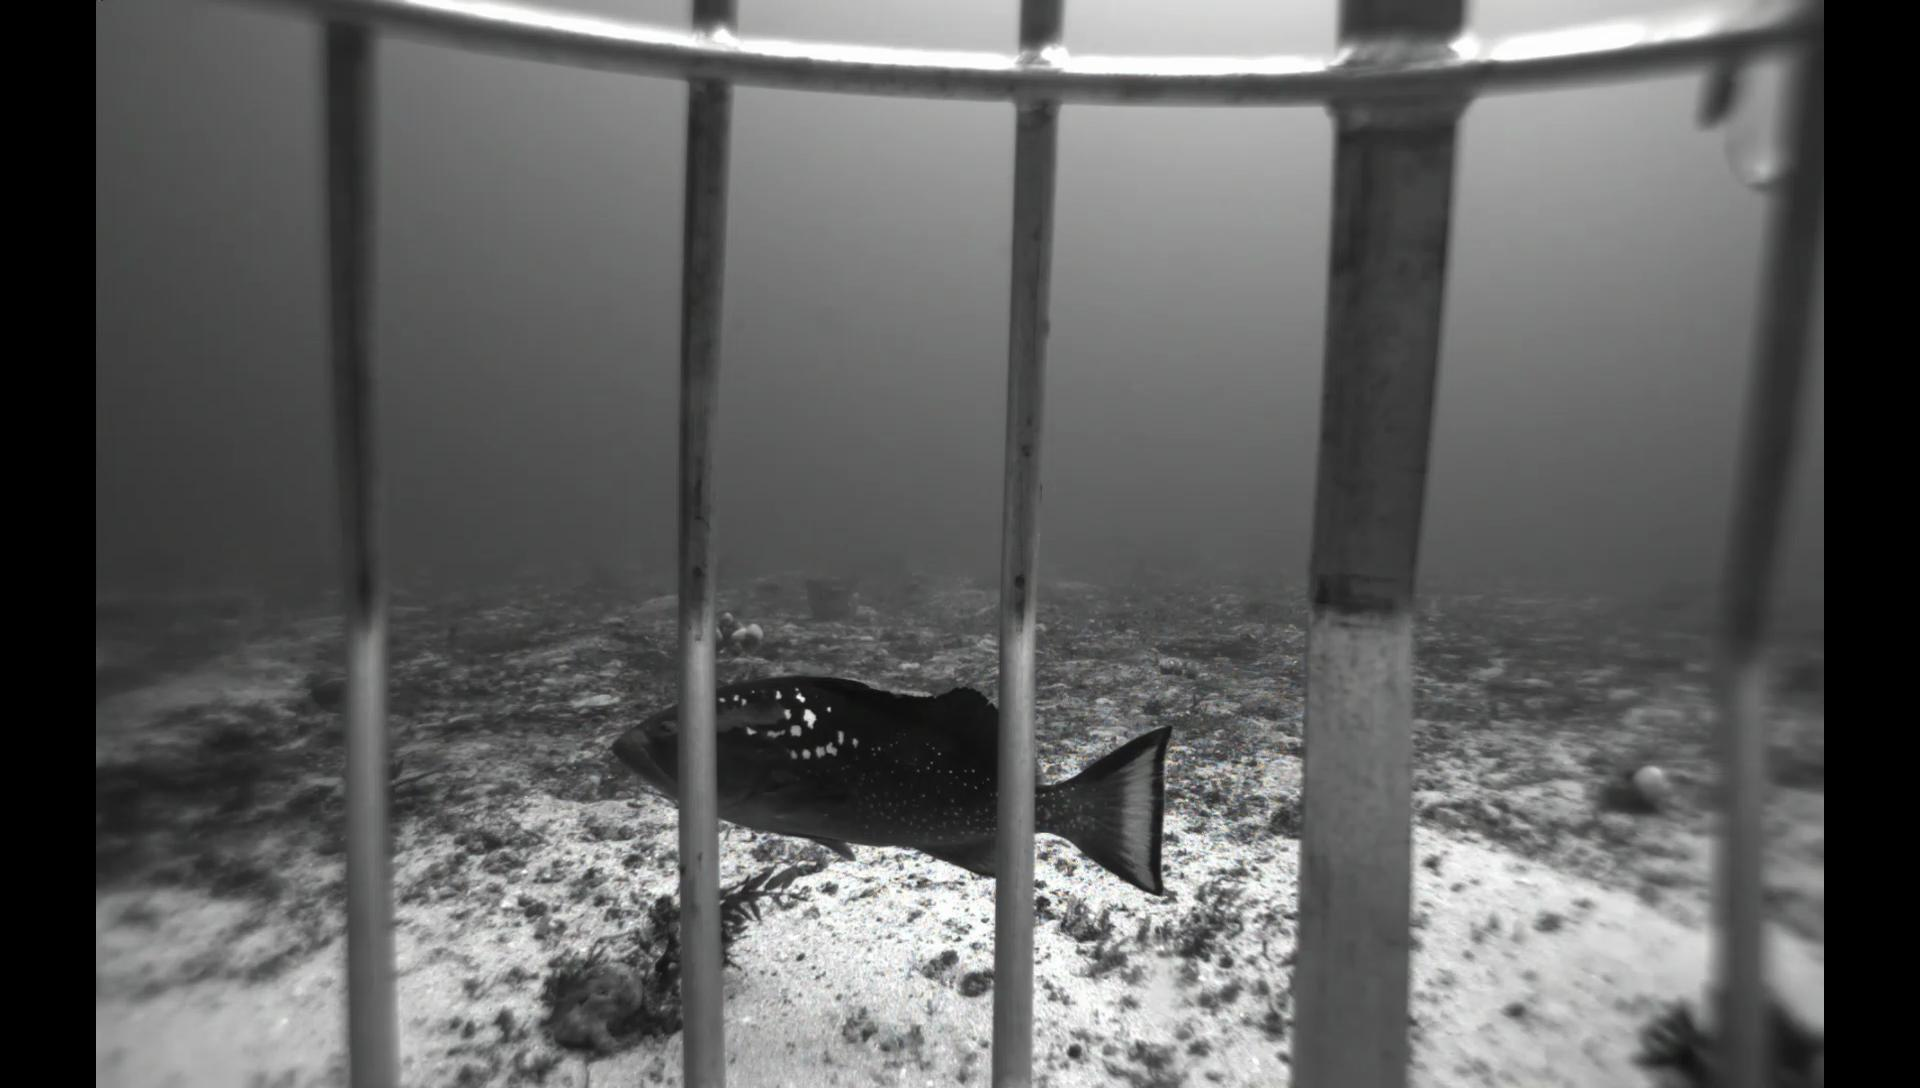CHAETODONOCELLATUS-170260307: (1466, 587, 1505, 619), (1412, 593, 1443, 629)
EPINEPHELUSMORIO-170021211: (607, 670, 1182, 907)
PRISTIGENYSALTA-170050401: (297, 673, 347, 715)
